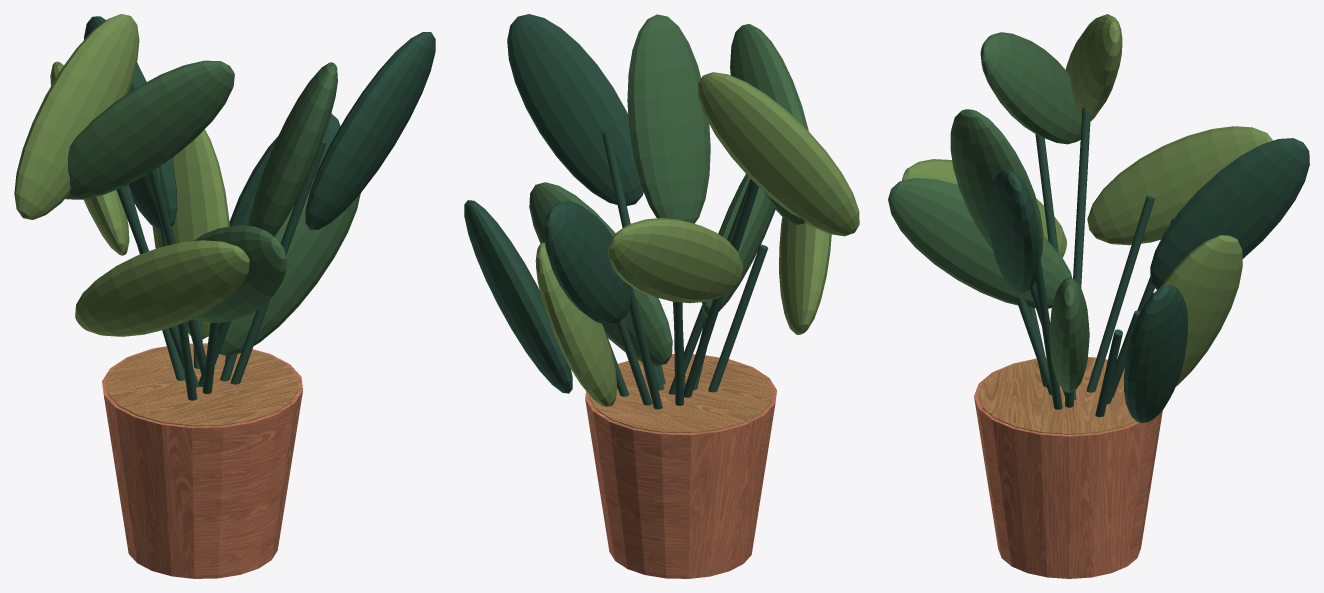
The model's file is hiperreal-hd.glb.
3 renders of one model, left to right at view 1: azimuth 30°, elevation 25°; view 2: azimuth 150°, elevation 25°; view 3: azimuth 270°, elevation 25°, orthographic. The views are drawn at different scales.
Parts seen in each view (by area): view 1: Native component 18, Native component 14, Native component 0, Native component 10, Native component 1; view 2: Native component 10, Native component 18, Native component 0, Native component 14, Native component 1; view 3: Native component 10, Native component 14, Native component 0, Native component 18, Native component 1.
Part boxes in pixels (x1=…): Native component 18: x1=14, y1=14, x2=249, y2=338; Native component 14: x1=65, y1=60, x2=360, y2=356; Native component 0: x1=102, y1=343, x2=302, y2=578; Native component 10: x1=84, y1=16, x2=435, y2=400; Native component 1: x1=106, y1=344, x2=298, y2=426; Native component 10: x1=464, y1=14, x2=768, y2=409; Native component 18: x1=535, y1=72, x2=859, y2=406; Native component 0: x1=585, y1=354, x2=776, y2=578; Native component 14: x1=529, y1=14, x2=808, y2=366; Native component 1: x1=589, y1=354, x2=772, y2=433; Native component 10: x1=988, y1=107, x2=1309, y2=422; Native component 14: x1=888, y1=32, x2=1089, y2=392; Native component 0: x1=974, y1=357, x2=1162, y2=578; Native component 18: x1=902, y1=14, x2=1272, y2=386; Native component 1: x1=978, y1=358, x2=1136, y2=434.
Size of the model in its own units: 1.26 by 1.63 by 1.24.
Materials: 6 (2 with a texture image).
